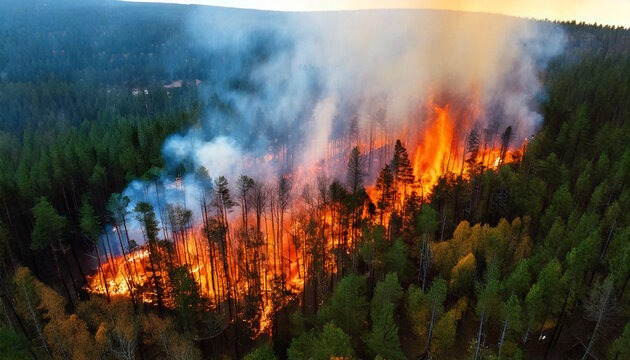forest_fire: (90, 101, 512, 335), (258, 155, 280, 164), (169, 177, 183, 191), (150, 185, 168, 195), (483, 128, 491, 132), (346, 168, 351, 172), (353, 188, 356, 191), (395, 133, 398, 136), (186, 303, 189, 304), (182, 196, 183, 198)
